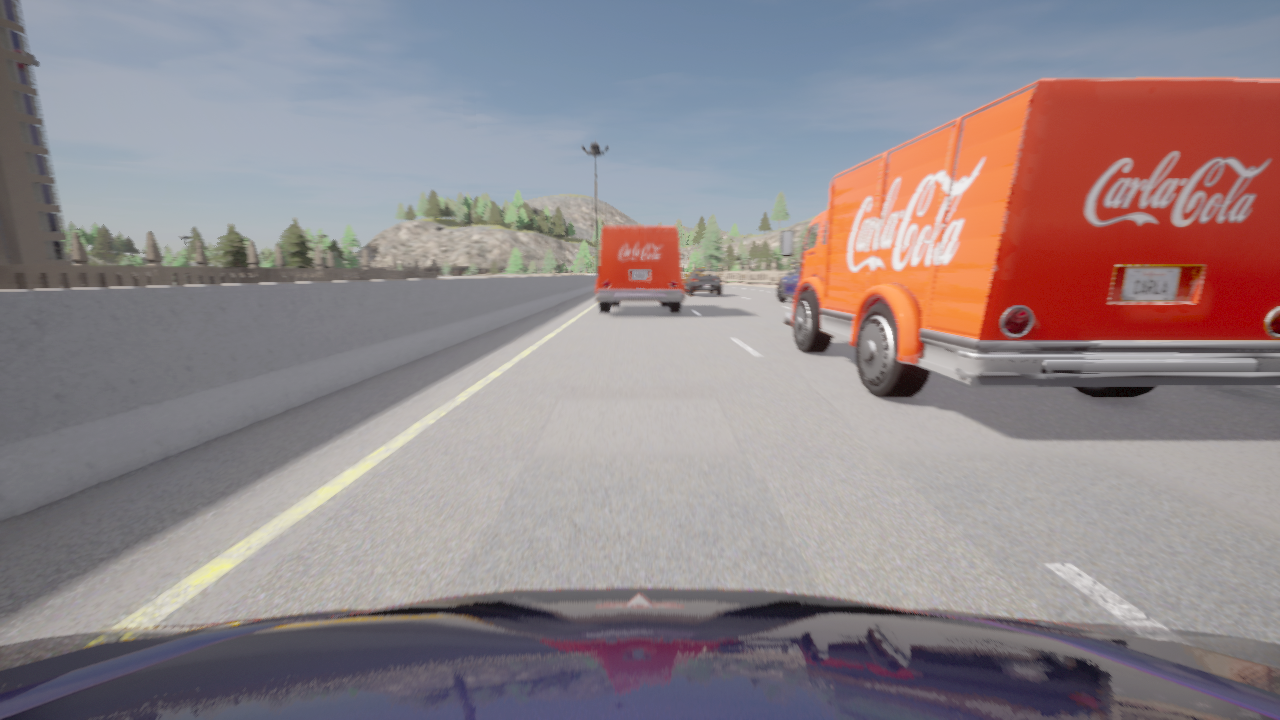cyclist: (0, 588, 1279, 719), (780, 78, 1279, 397), (596, 226, 684, 313), (684, 269, 721, 295), (777, 264, 799, 301)
